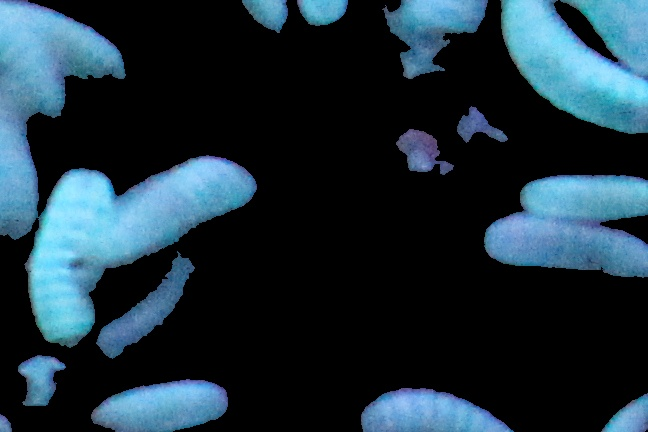larvae: (500, 1, 647, 136), (27, 164, 115, 346), (93, 157, 260, 249), (1, 1, 126, 80), (484, 216, 648, 273), (89, 378, 227, 432), (359, 387, 517, 432), (552, 1, 648, 75), (520, 172, 648, 220), (1, 33, 66, 118)
